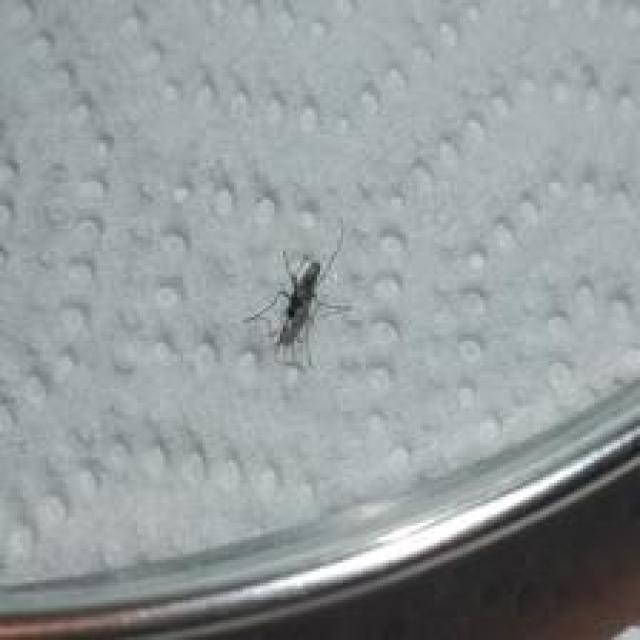Aedes albopictus: (243, 223, 351, 368)
